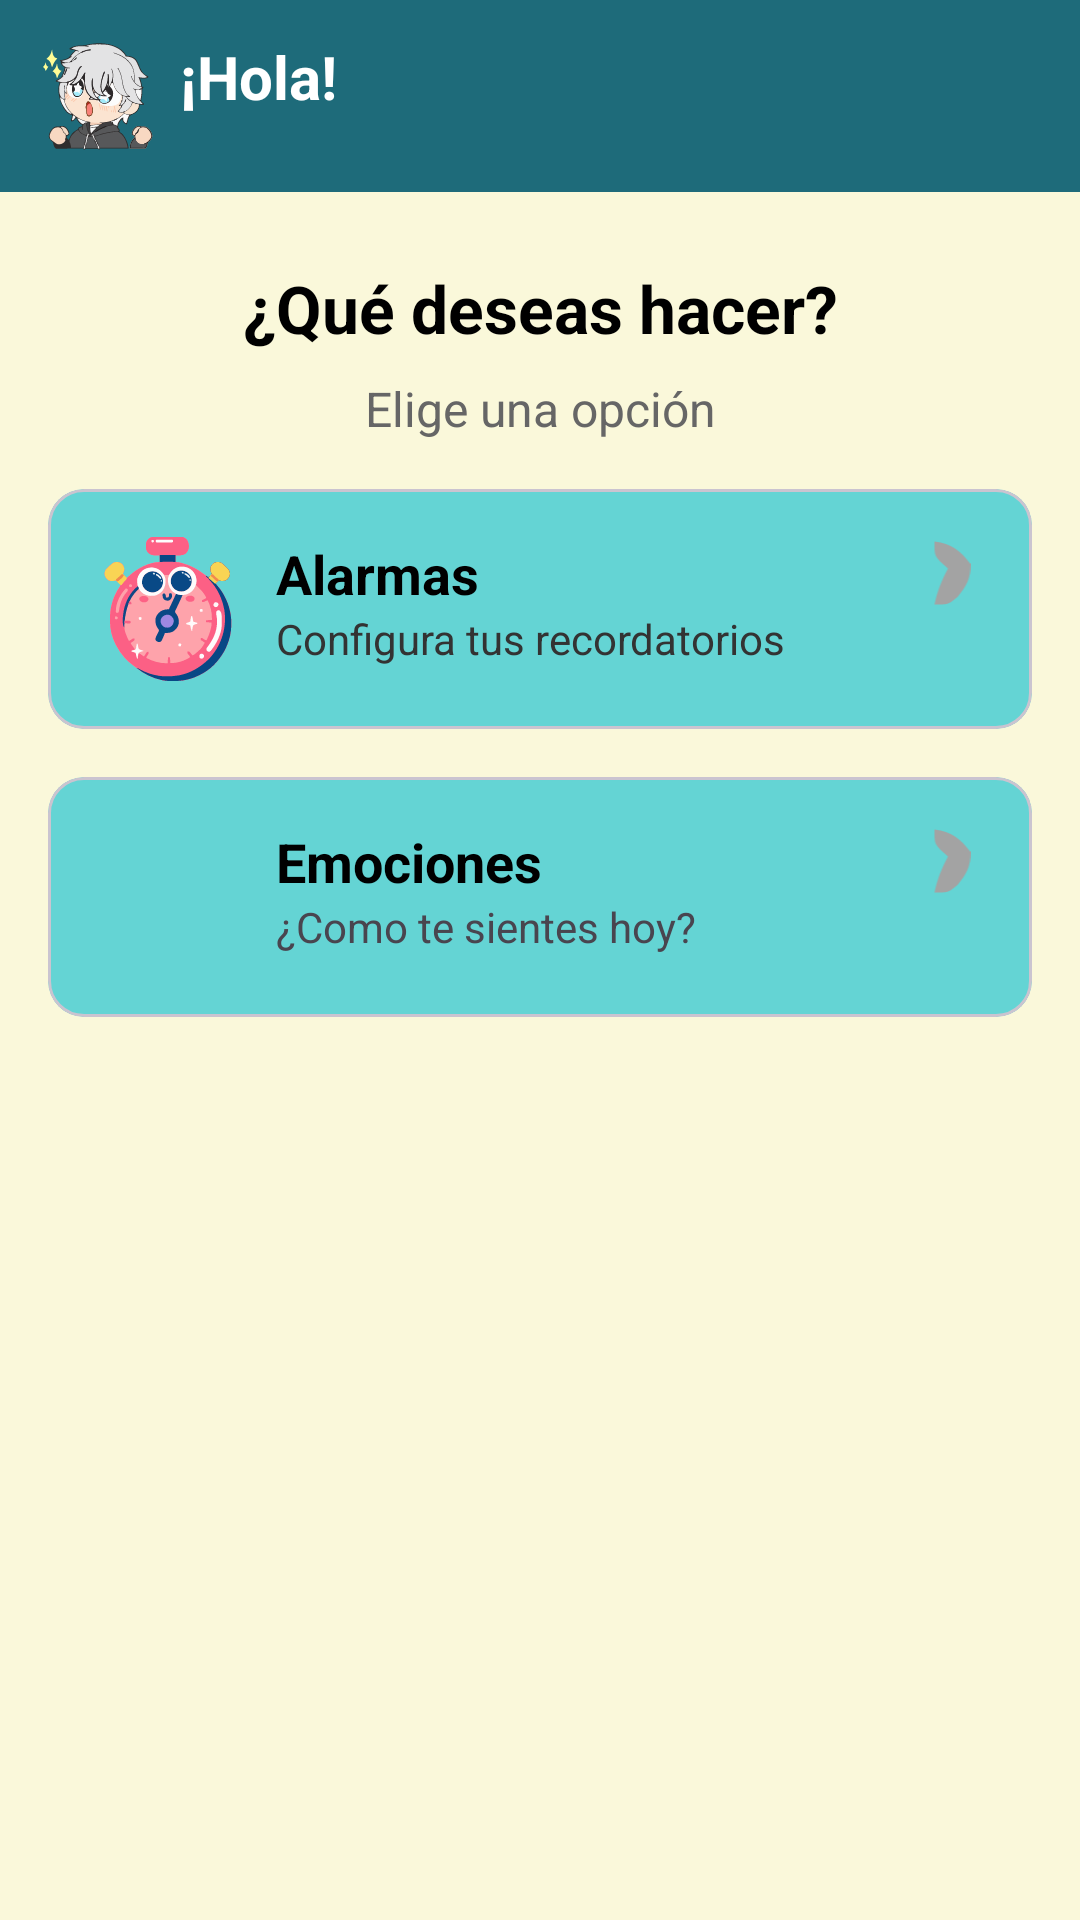

Icons on this 1080×1920 Android screen, each with the point to tap as (x,y):
Ir: (952,573), (952,861)
